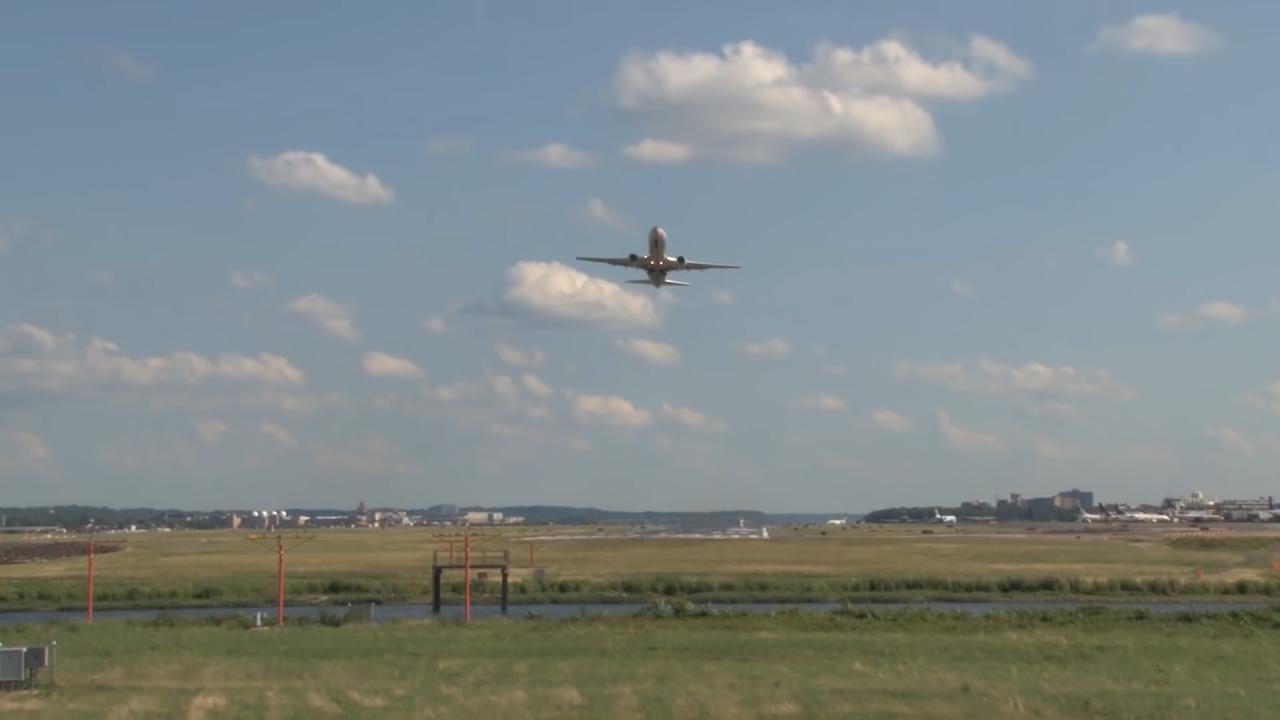Airplane: (565, 214, 754, 301)
